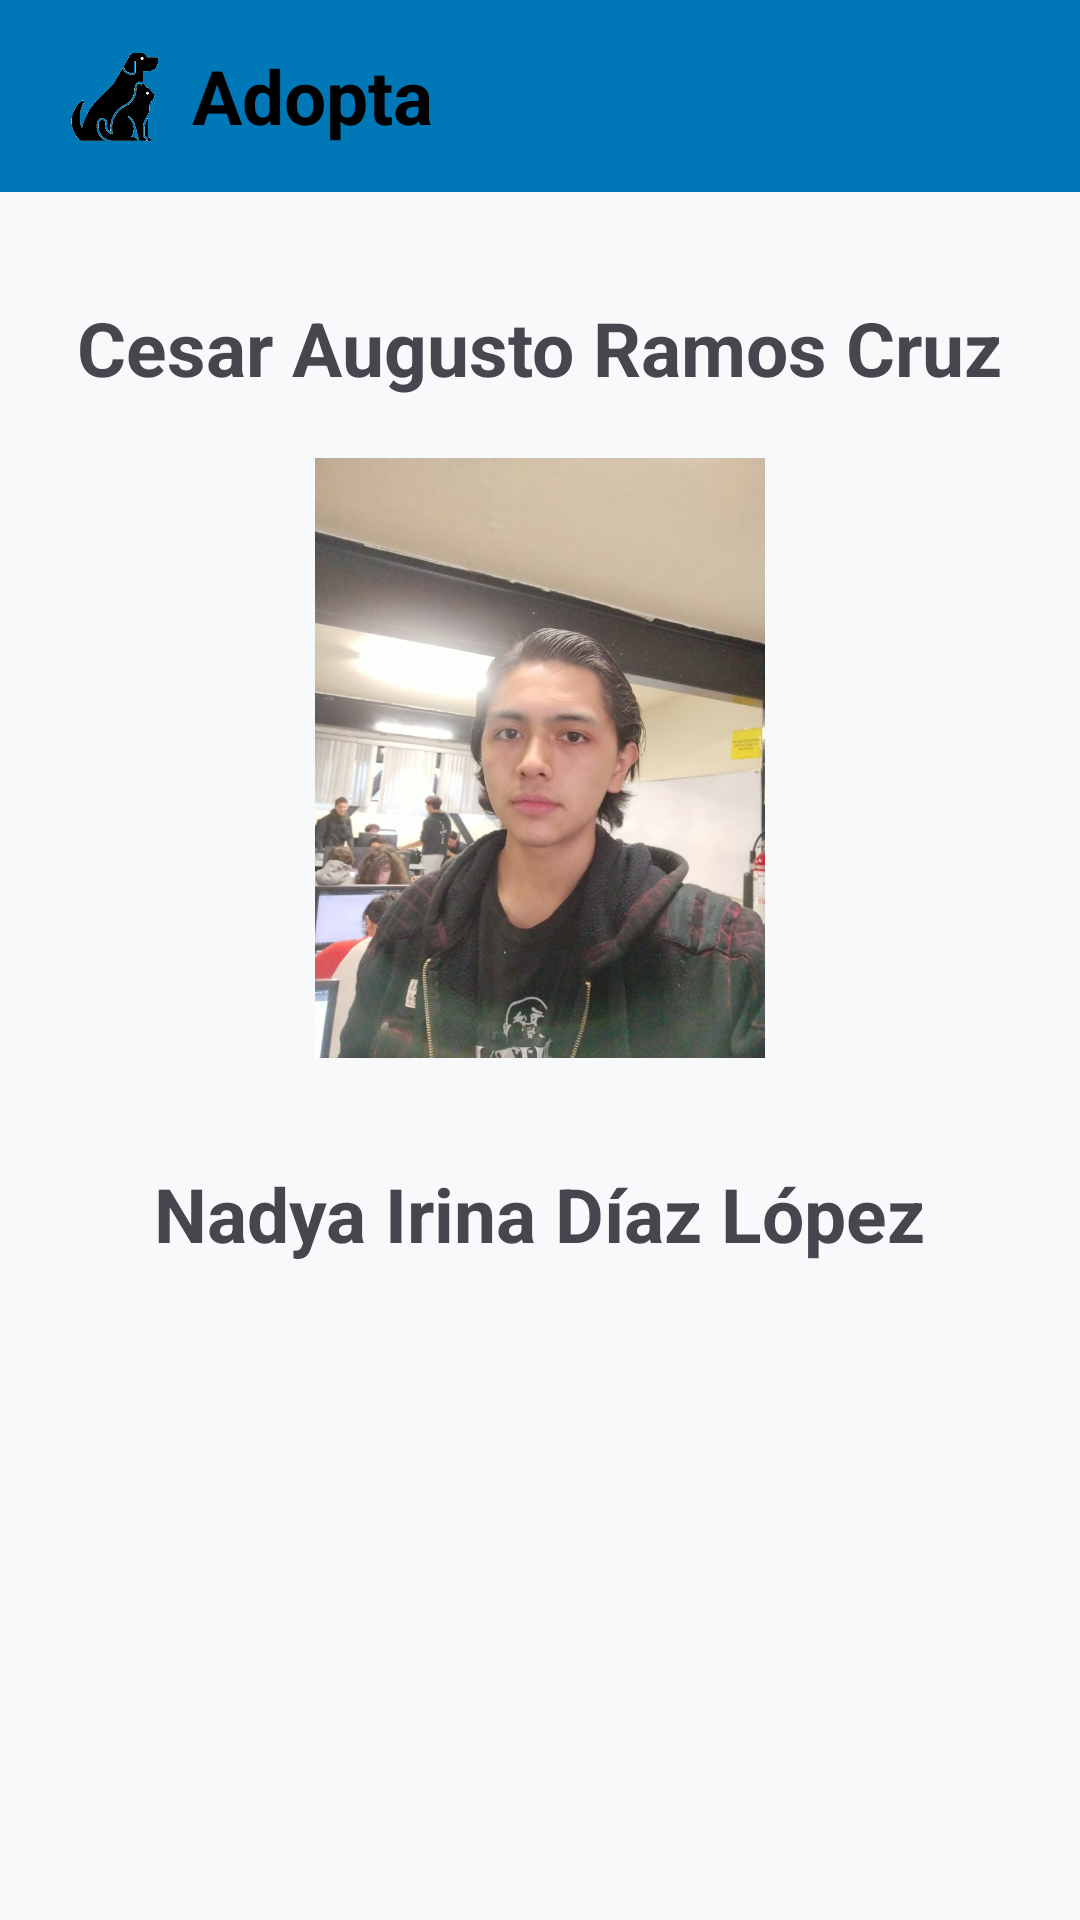

Icons on this 1080 x 1920 Android screen, each with its box as (x1, y1, x2, y2):
mascotas: (71, 53, 158, 141)
